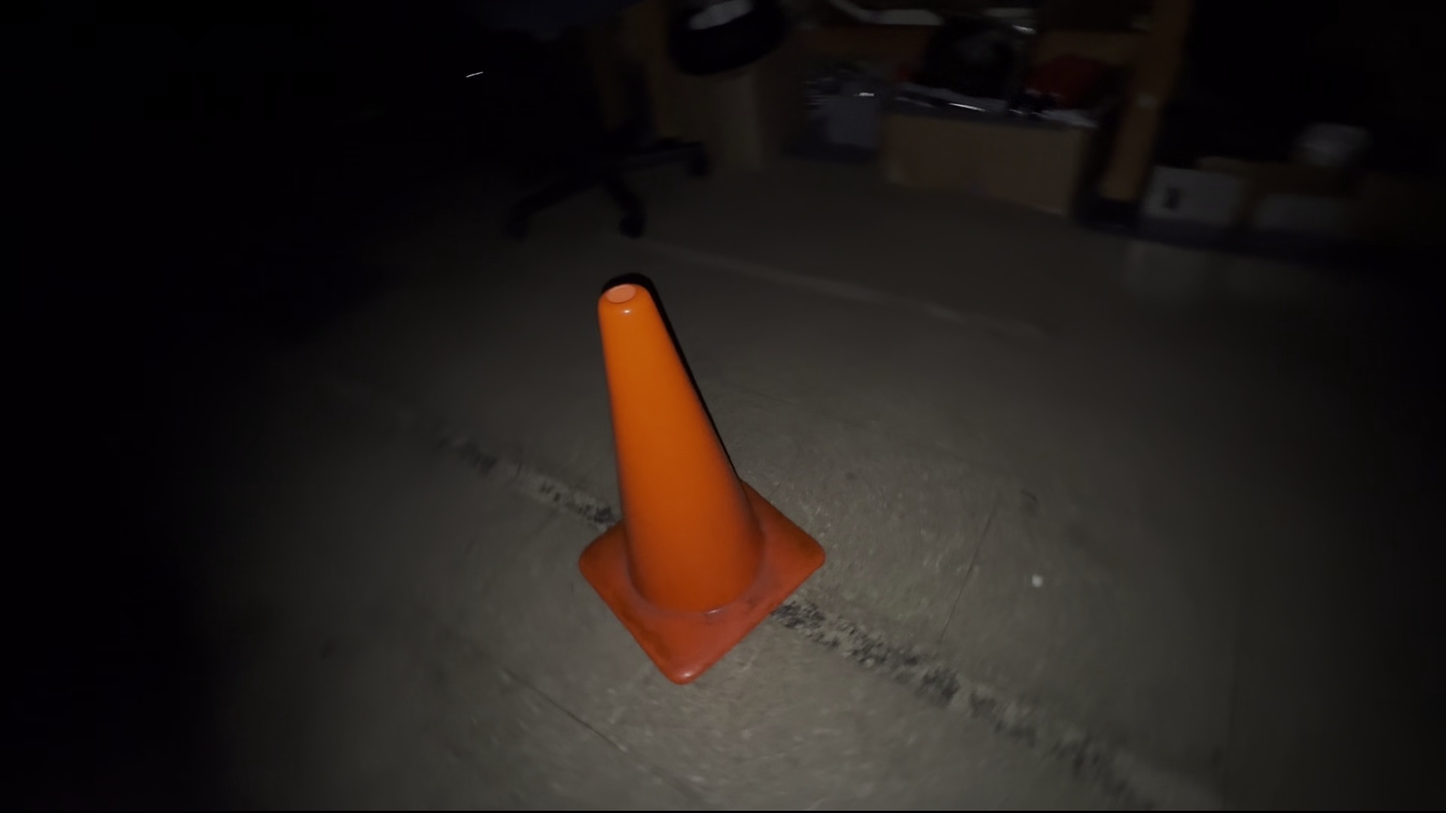traffic_cone: (577, 273, 826, 686)
